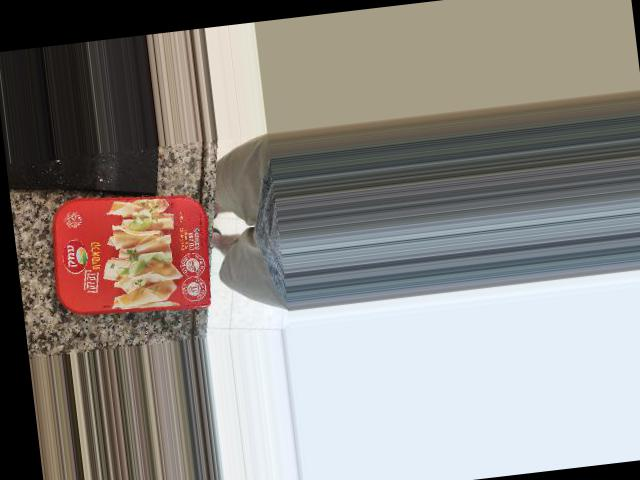cheese: (76, 164, 246, 307)
